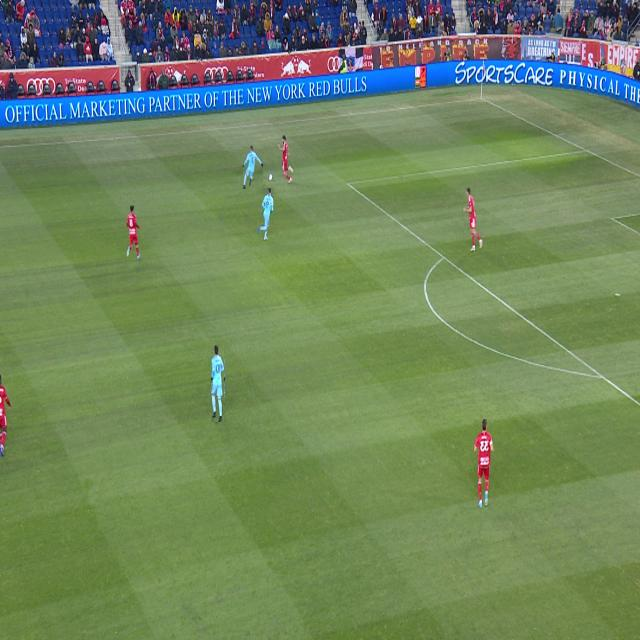football: (269, 173, 273, 181)
player: (474, 419, 494, 508), (464, 188, 483, 252), (212, 345, 224, 422), (1, 374, 12, 456), (257, 188, 274, 240), (243, 146, 263, 189), (126, 206, 140, 260), (278, 135, 293, 183)
